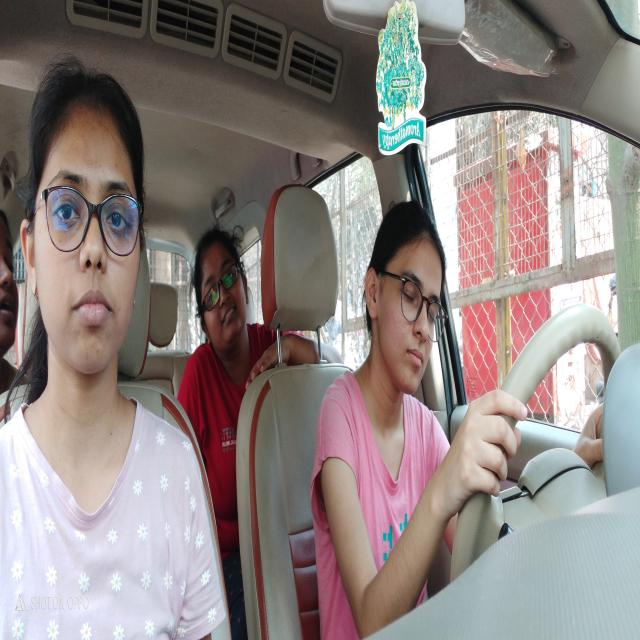drowsy: (363, 198, 447, 426)
person: (20, 54, 145, 396), (194, 228, 248, 363), (1, 194, 21, 410)
